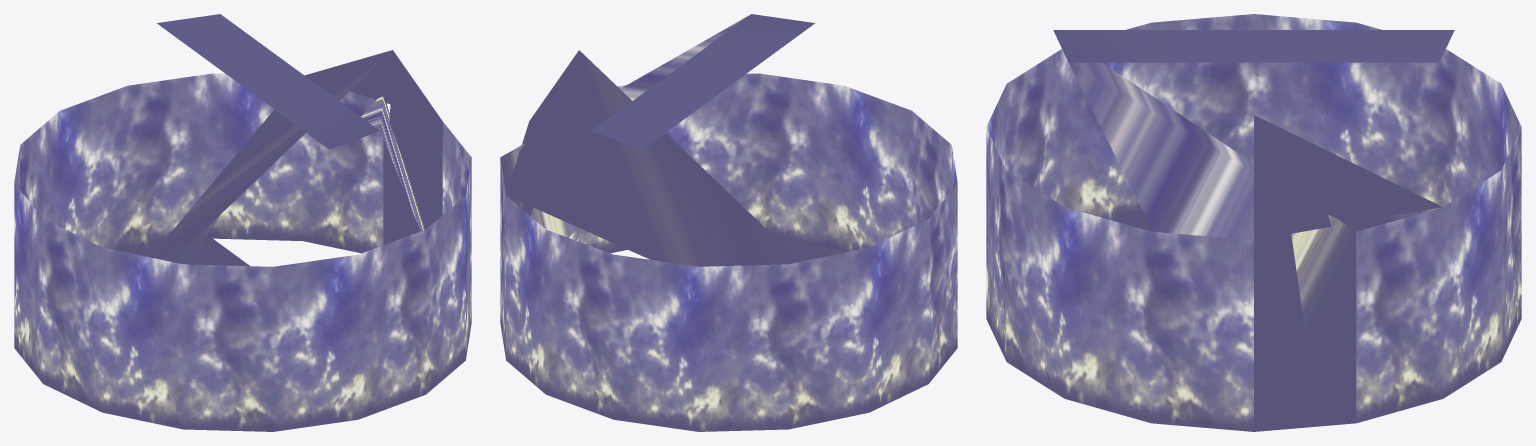
Rendered from sky-forest-02.obj.
3 views of the same model, side by side, from view 1: azimuth 30°, elevation 25°; view 2: azimuth 150°, elevation 25°; view 3: azimuth 270°, elevation 25° (orthographic). The views are drawn at different scales.
Parts seen in each view (by area): view 1: mesh_sky_0; view 2: mesh_sky_0; view 3: mesh_sky_0.
Part boxes in pixels (x1,y1,x2,y2): mesh_sky_0: (14, 14, 471, 431); mesh_sky_0: (500, 14, 957, 431); mesh_sky_0: (986, 14, 1521, 431).
Size of the model in its own units: 400 by 238 by 400.
Materials: 1 (1 with a texture image).
